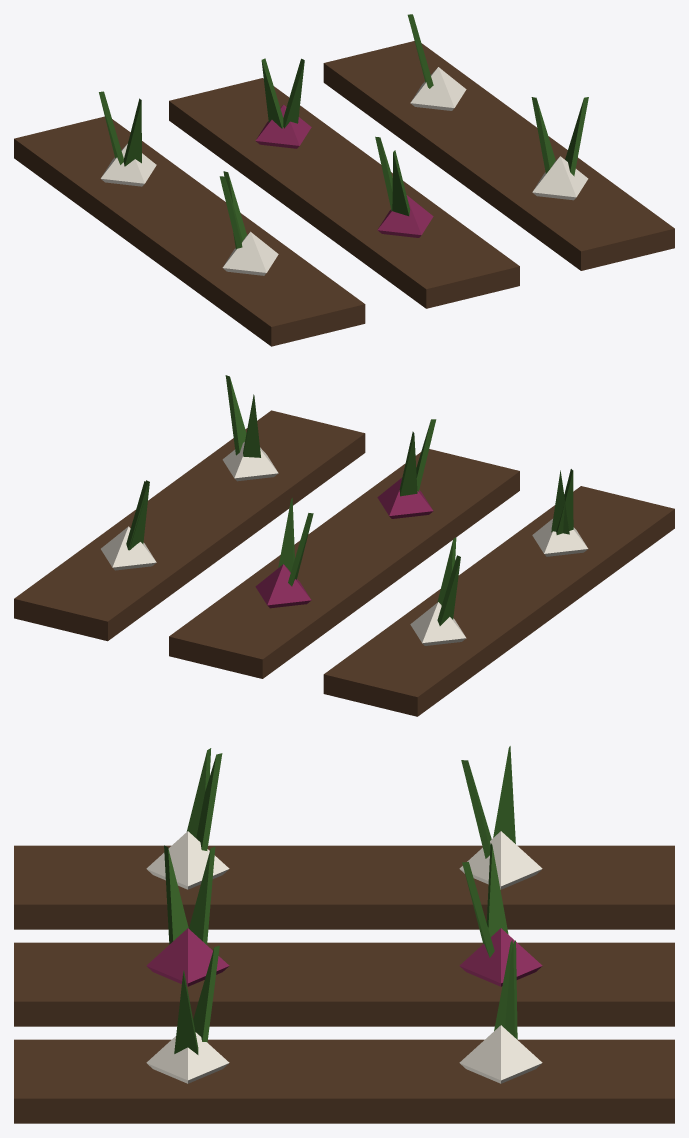
Rendered from crop_roots_3.glb.
The picture shows the model from 3 angles, top to bottom: view 1: azimuth 30°, elevation 25°; view 2: azimuth 150°, elevation 25°; view 3: azimuth 270°, elevation 25°; orthographic projection. The views are drawn at different scales.
Parts seen in each view (by area): view 1: crop_roots_3; view 2: crop_roots_3; view 3: crop_roots_3.
Boxes of the visible parts, <box> form: crop_roots_3: <box>14,14,674,346</box>; crop_roots_3: <box>14,375,674,716</box>; crop_roots_3: <box>14,746,674,1123</box>.
Size of the model in its own units: 1.72 by 0.46 by 1.9.
